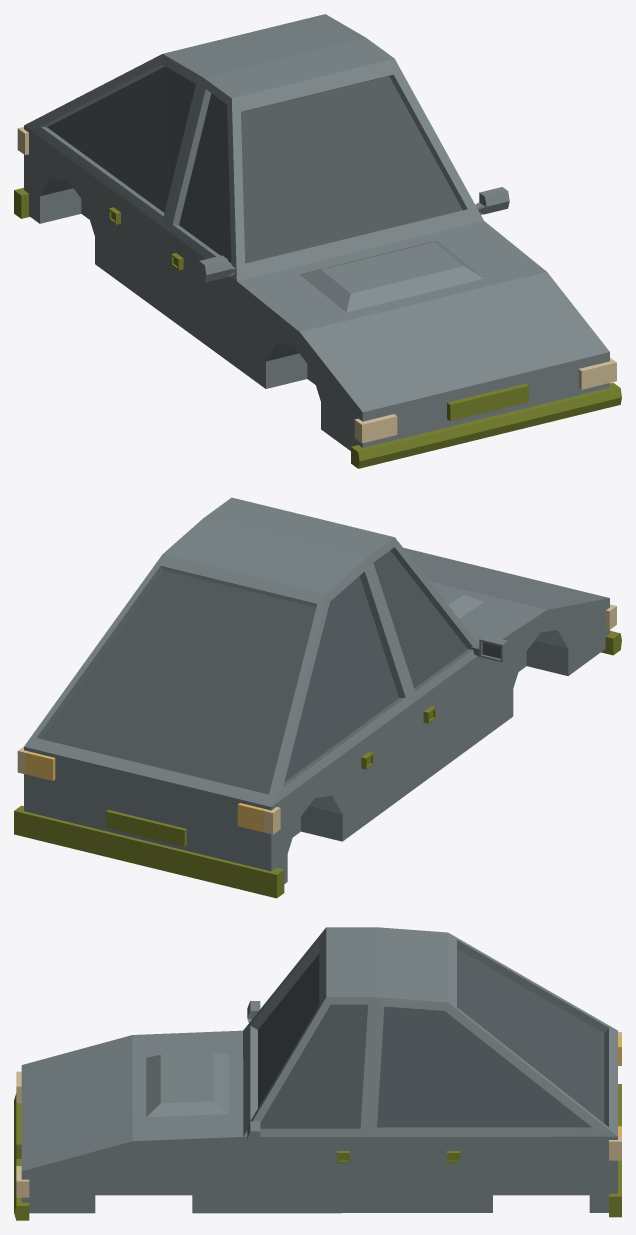
File: Car_05.fbx
3 views of the same model, one above another, from view 1: azimuth 30°, elevation 25°; view 2: azimuth 150°, elevation 25°; view 3: azimuth 270°, elevation 25° (orthographic). The views are drawn at different scales.
Visible parts, largest first — view 1: Car_05; view 2: Car_05; view 3: Car_05.
Boxes of the visible parts, left/top/right/bottom form: Car_05: left=14, top=14, right=621, bottom=468; Car_05: left=14, top=497, right=621, bottom=898; Car_05: left=14, top=927, right=621, bottom=1220.
Size of the model in its own units: 1.97 by 1.42 by 3.88.
